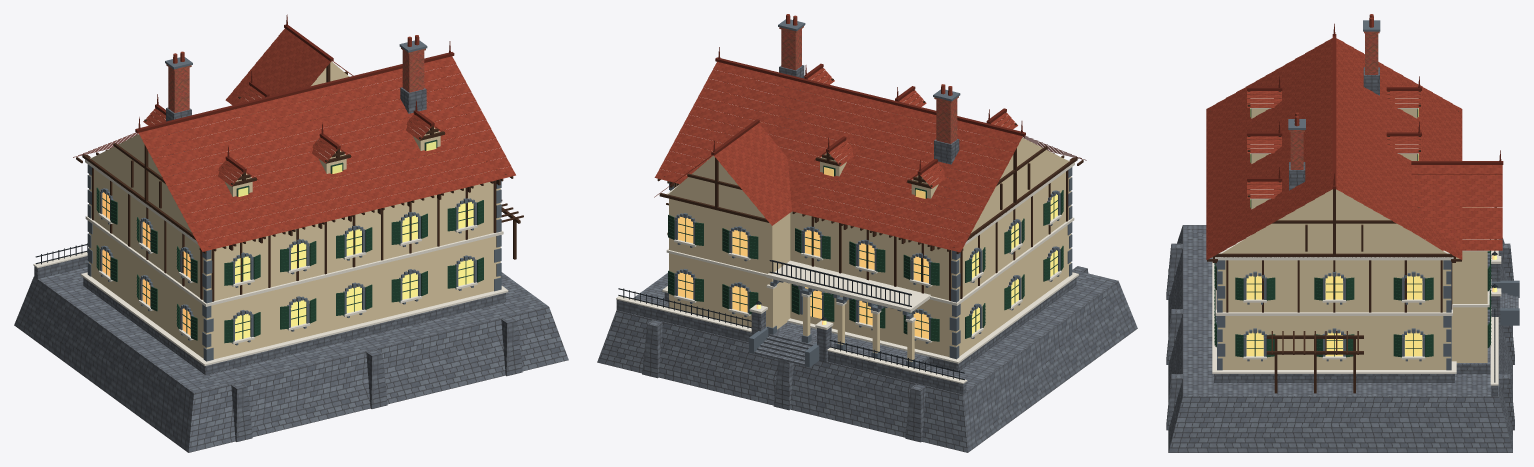
The model's file is fv_btx_05_bui_thi_xuan_15_lake_corridor_manor.glb.
The picture shows the model from 3 angles, left to right: view 1: azimuth 30°, elevation 25°; view 2: azimuth 150°, elevation 25°; view 3: azimuth 270°, elevation 25°; orthographic projection. The views are drawn at different scales.
Visible parts, largest first — view 1: Foundation_Skirt_Neg3p5m, Normandy_Brittany_Layered_Roof, Villa_Stucco_Walls, PineGreen_Louvered_Shutters, Molded_Cornices_And_Sills, Stone_Quoins_And_Arches, Exposed_Timber_Trusses_And_Rafters, Warm_Night_Windows_20h00_Blend, Roof_Ridges_Caps_And_Finials, Brick_Chimney_Stacks; view 2: Foundation_Skirt_Neg3p5m, Normandy_Brittany_Layered_Roof, Villa_Stucco_Walls, Molded_Cornices_And_Sills, PineGreen_Louvered_Shutters, Stone_Quoins_And_Arches, Warm_Night_Windows_20h00_Blend, Exposed_Timber_Trusses_And_Rafters, Roof_Ridges_Caps_And_Finials, Wrought_Iron_Balustrades_And_Gate, Brick_Chimney_Stacks; view 3: Normandy_Brittany_Layered_Roof, Foundation_Skirt_Neg3p5m, Villa_Stucco_Walls, Molded_Cornices_And_Sills, Exposed_Timber_Trusses_And_Rafters, Stone_Quoins_And_Arches, PineGreen_Louvered_Shutters, Warm_Night_Windows_20h00_Blend, Roof_Ridges_Caps_And_Finials, Brick_Chimney_Stacks.
Part boxes in pixels (<box>): Foundation_Skirt_Neg3p5m: <box>14,87,568,452</box>; Normandy_Brittany_Layered_Roof: <box>138,28,515,251</box>; Villa_Stucco_Walls: <box>89,61,500,359</box>; PineGreen_Louvered_Shutters: <box>96,139,483,343</box>; Molded_Cornices_And_Sills: <box>33,93,508,365</box>; Stone_Quoins_And_Arches: <box>87,40,501,361</box>; Exposed_Timber_Trusses_And_Rafters: <box>76,63,523,301</box>; Warm_Night_Windows_20h00_Blend: <box>102,141,473,340</box>; Roof_Ridges_Caps_And_Finials: <box>73,14,454,179</box>; Brick_Chimney_Stacks: <box>166,47,425,112</box>; Foundation_Skirt_Neg3p5m: <box>597,65,1137,452</box>; Normandy_Brittany_Layered_Roof: <box>654,14,1022,252</box>; Villa_Stucco_Walls: <box>668,94,1071,361</box>; Molded_Cornices_And_Sills: <box>616,78,1078,383</box>; PineGreen_Louvered_Shutters: <box>668,165,1063,341</box>; Stone_Quoins_And_Arches: <box>669,19,1072,367</box>; Warm_Night_Windows_20h00_Blend: <box>678,167,1057,339</box>; Exposed_Timber_Trusses_And_Rafters: <box>657,67,1083,300</box>; Roof_Ridges_Caps_And_Finials: <box>654,47,1086,197</box>; Wrought_Iron_Balustrades_And_Gate: <box>618,260,964,380</box>; Brick_Chimney_Stacks: <box>779,26,958,143</box>; Normandy_Brittany_Layered_Roof: <box>1206,14,1502,259</box>; Foundation_Skirt_Neg3p5m: <box>1166,67,1518,452</box>; Villa_Stucco_Walls: <box>1218,108,1487,369</box>; Molded_Cornices_And_Sills: <box>1212,98,1501,385</box>; Exposed_Timber_Trusses_And_Rafters: <box>1207,91,1496,393</box>; Stone_Quoins_And_Arches: <box>1215,20,1519,370</box>; PineGreen_Louvered_Shutters: <box>1214,108,1491,357</box>; Warm_Night_Windows_20h00_Blend: <box>1246,108,1497,356</box>; Roof_Ridges_Caps_And_Finials: <box>1247,23,1503,189</box>; Brick_Chimney_Stacks: <box>1289,31,1379,169</box>.
Bounding box in the file's own units: 27.73 × 20.6 × 22.12.
12 materials, 3 textured.
